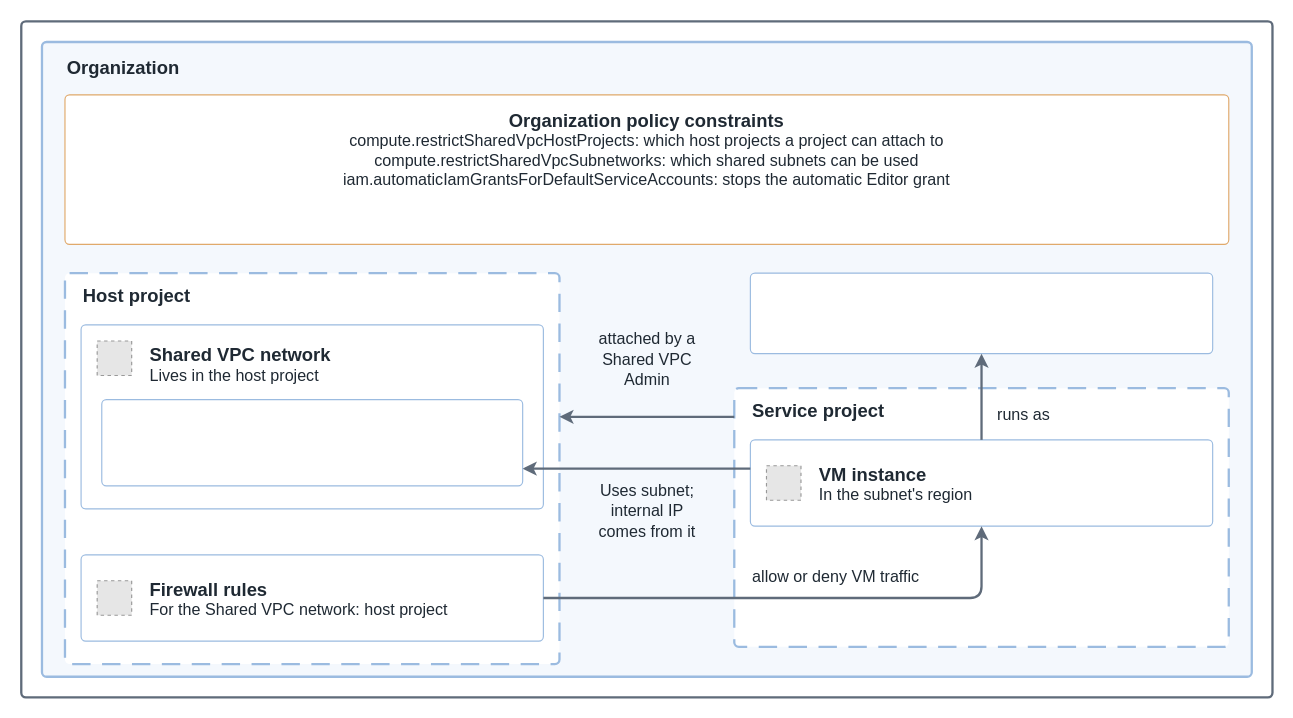
This 1293x718 diagram has some shape labels left out. Grey dashed boxes stand in for pictures. Each missing label, with the centre of its shape:
"Service account The account the VM runs as" belongs at [981,313].
"Shared subnet Used by VMs in service projects" belongs at [312,442].
